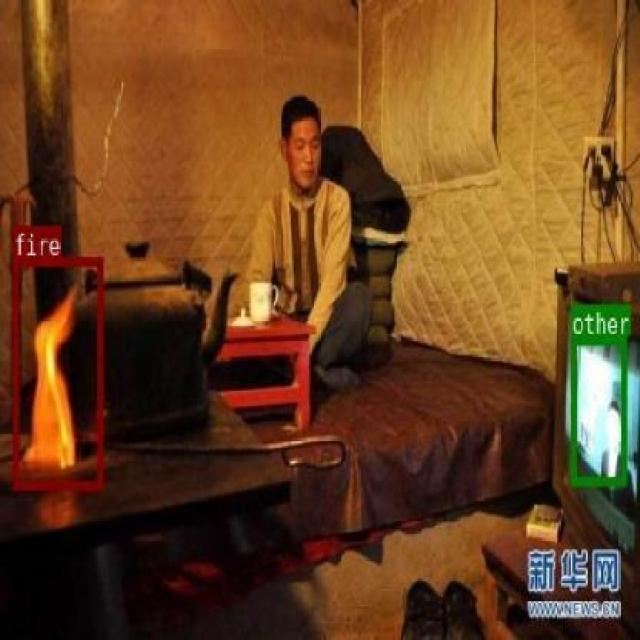fire: (13, 257, 102, 488)
